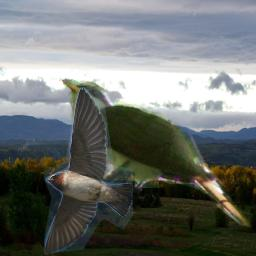Cuckoo: (57, 78, 253, 227)
Swallow: (44, 87, 133, 255)
